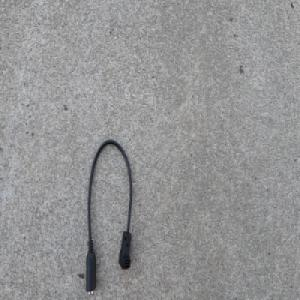Wire: (85, 138, 135, 296)
